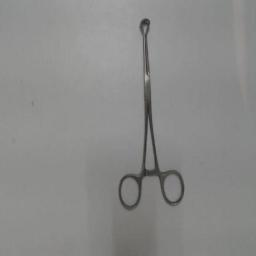Babcock Tissue Forceps: (115, 17, 187, 213)
